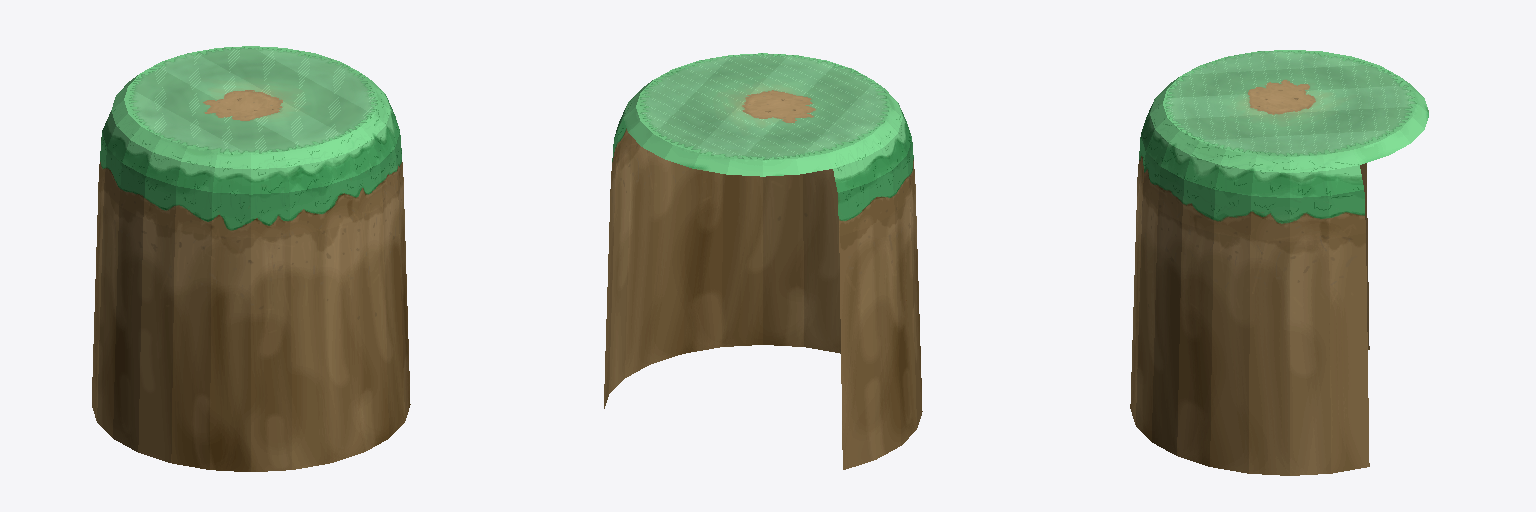
The picture shows the model from 3 angles: view 1: azimuth 30°, elevation 25°; view 2: azimuth 150°, elevation 25°; view 3: azimuth 270°, elevation 25°; orthographic projection.
Visible parts, largest first — view 1: Hill1_Circle; view 2: Hill1_Circle; view 3: Hill1_Circle.
Part boxes in pixels (bbox=[...]): Hill1_Circle: bbox=[92, 46, 410, 471]; Hill1_Circle: bbox=[604, 53, 922, 469]; Hill1_Circle: bbox=[1130, 50, 1428, 475].
Size of the model in its own units: 2.84 by 3 by 2.67.
Materials: 1 (1 with a texture image).